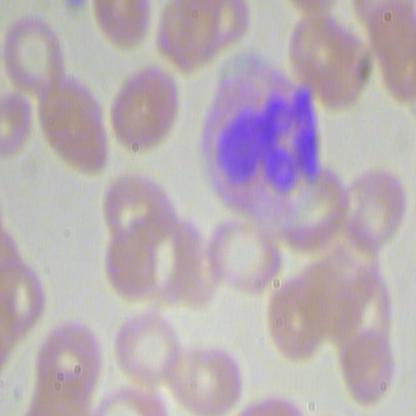RBC: (285, 9, 377, 114), (32, 68, 116, 180), (335, 158, 414, 256), (105, 65, 186, 160), (205, 210, 283, 298), (113, 304, 189, 389), (31, 313, 107, 398), (1, 10, 76, 94), (338, 328, 406, 409)
WBC: (191, 50, 324, 226)
